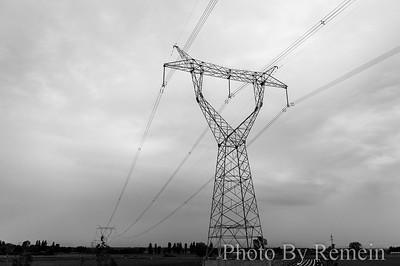power_tower: (162, 43, 293, 259)
